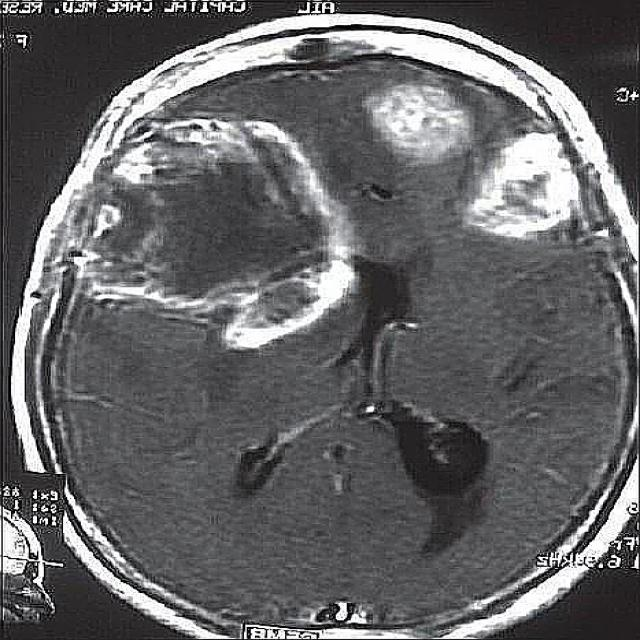Tumor-Cell: (97, 119, 353, 349), (468, 127, 576, 254), (373, 77, 466, 156)
